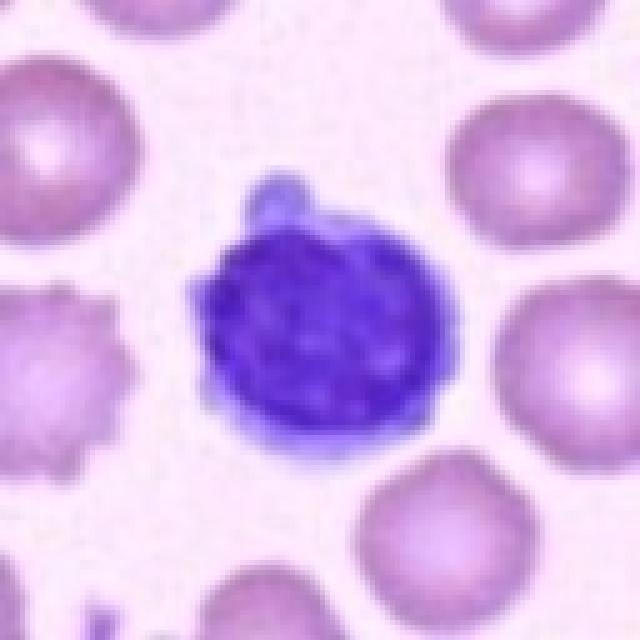lympho: (183, 155, 467, 470)
